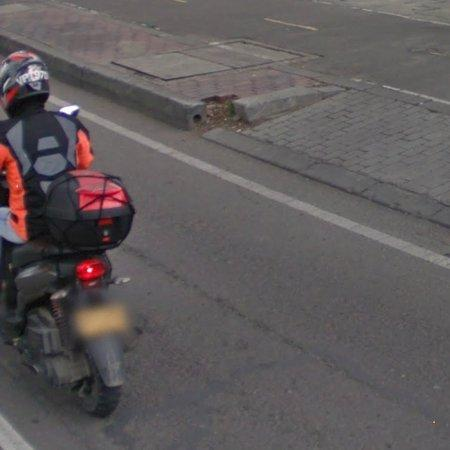motorcycles: (11, 170, 135, 417)
